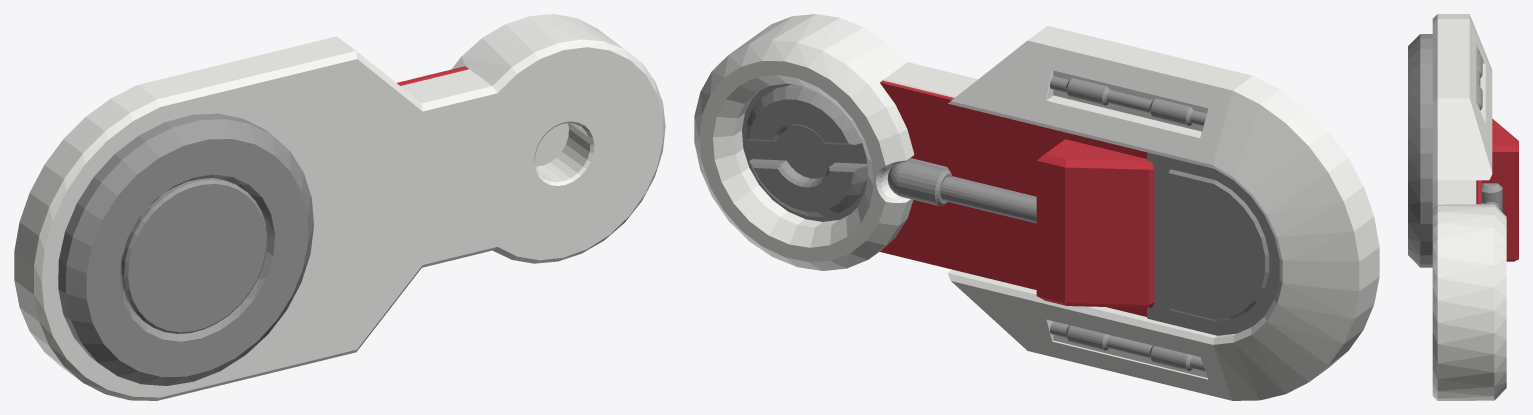
Rendered from up_leg_l_m.dae.
3 views of the same model, side by side, from view 1: azimuth 30°, elevation 25°; view 2: azimuth 150°, elevation 25°; view 3: azimuth 270°, elevation 25° (orthographic). The views are drawn at different scales.
Parts seen in each view (by area): view 1: SketchUp (×4); view 2: SketchUp (×13); view 3: SketchUp (×6).
Boxes of the visible parts, x1,y1,x2,y2 form: SketchUp (×4): (14,14,665,400); SketchUp (×13): (694,14,1379,400); SketchUp (×6): (1408,14,1518,400).
Bounding box in the file's own units: 9.49 × 1.77 × 4.33.
